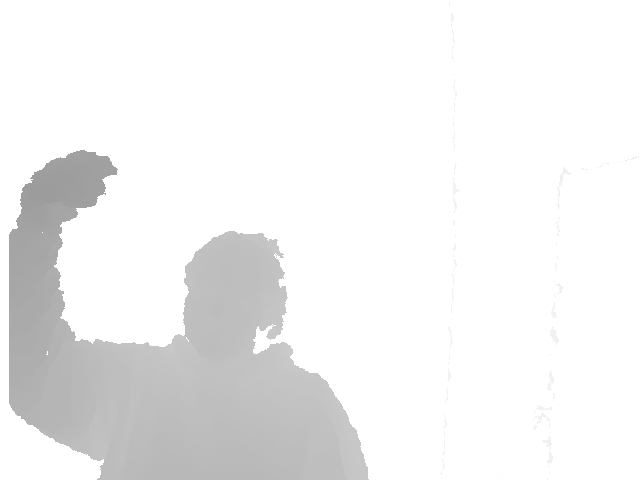hand: (16, 148, 119, 225)
head: (181, 229, 287, 355)
person: (8, 148, 370, 480)
